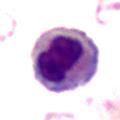lymphocyte: (29, 22, 103, 92)
